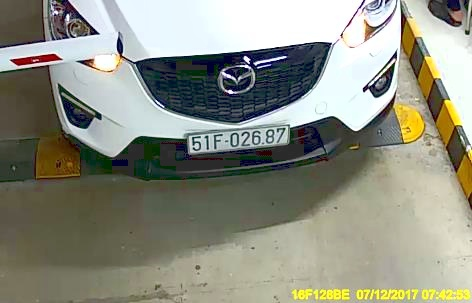plate: (182, 122, 295, 155)
